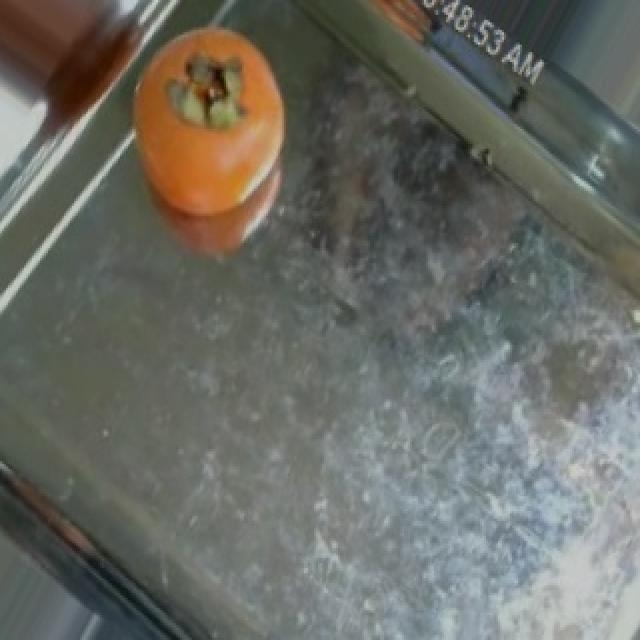Fruit: (102, 12, 316, 286), (576, 0, 640, 174)
